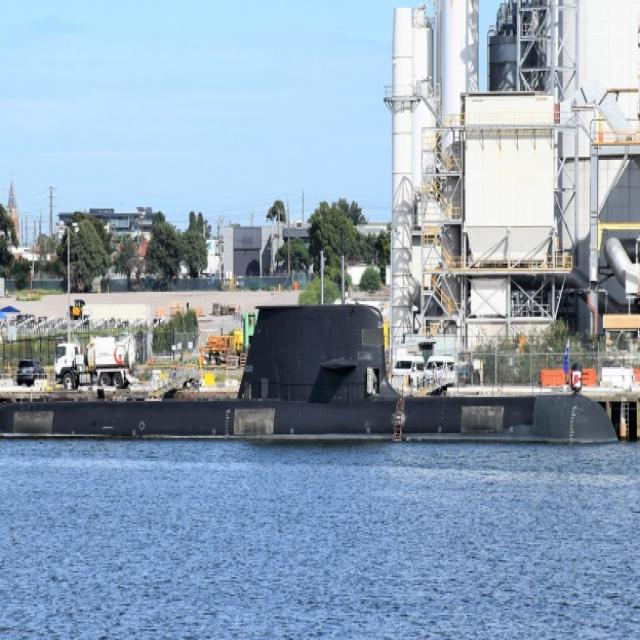submarine: (1, 300, 619, 446)
